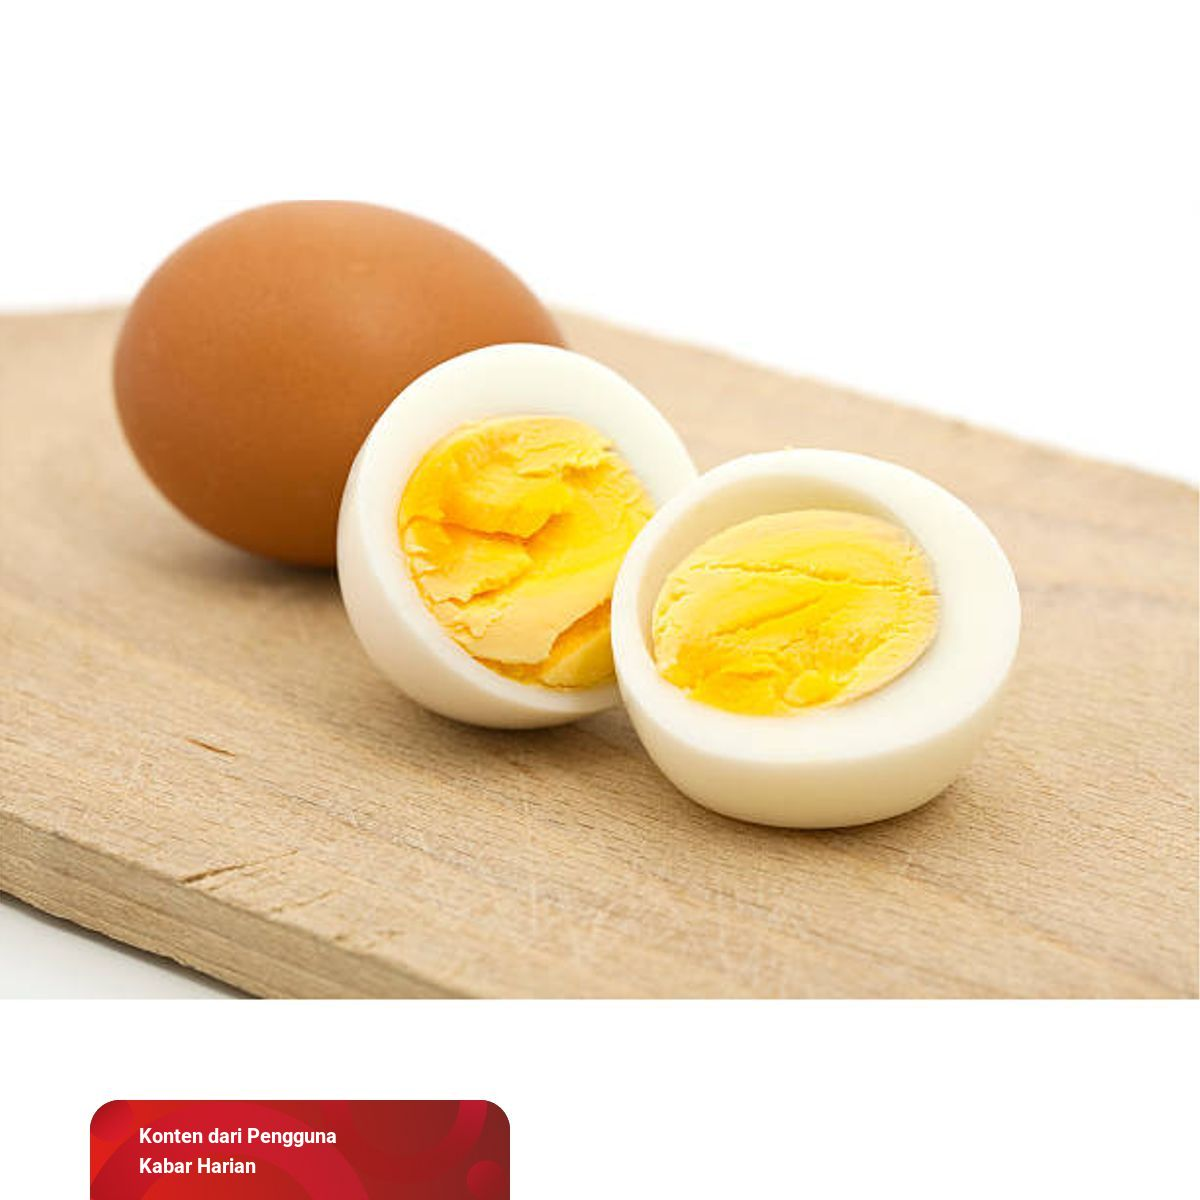Telur: (384, 352, 719, 743), (708, 452, 1002, 795)
